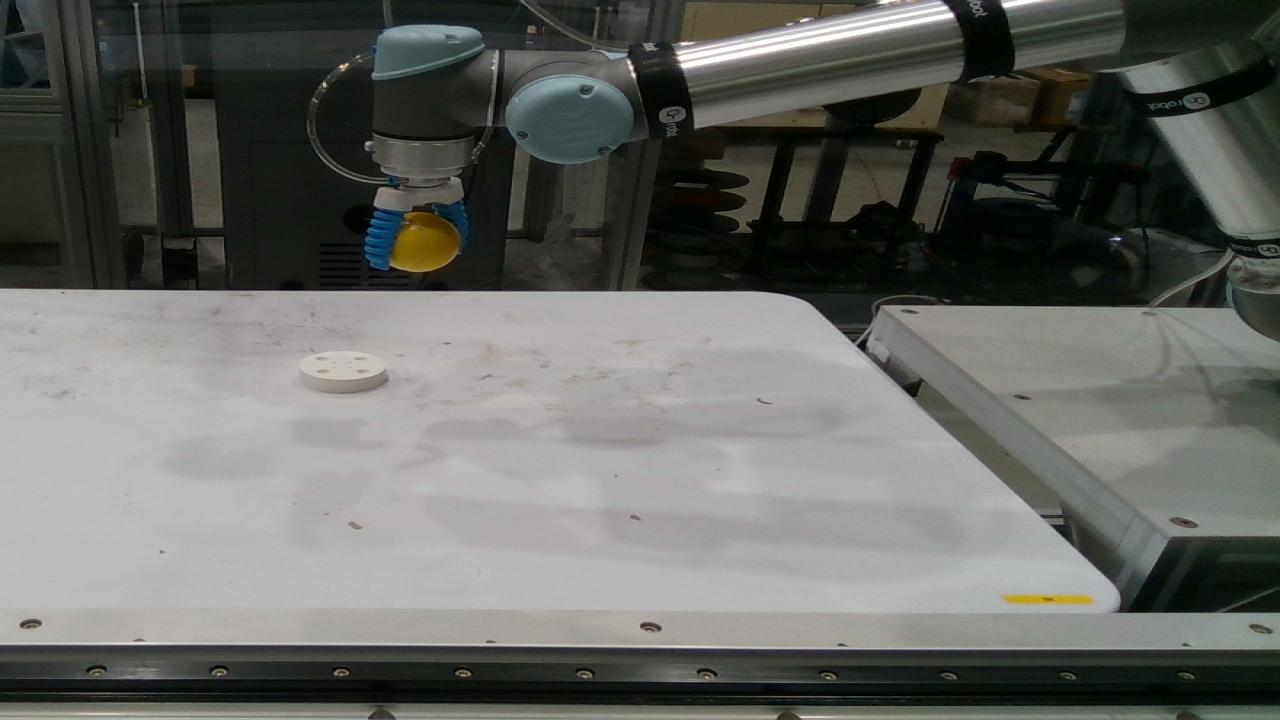UR5: (362, 0, 1279, 345)
gripper_left: (434, 198, 469, 251)
gripper_right: (362, 207, 405, 270)
target: (390, 212, 461, 273), (299, 351, 388, 394)
